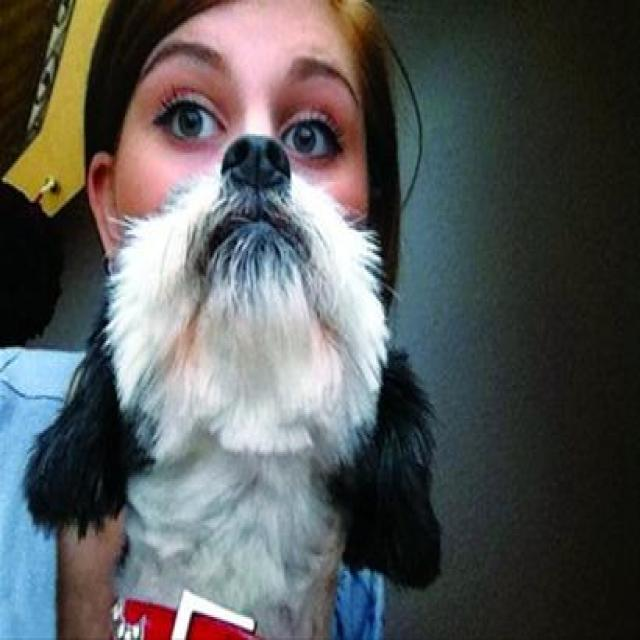nomask: (109, 2, 369, 354)
